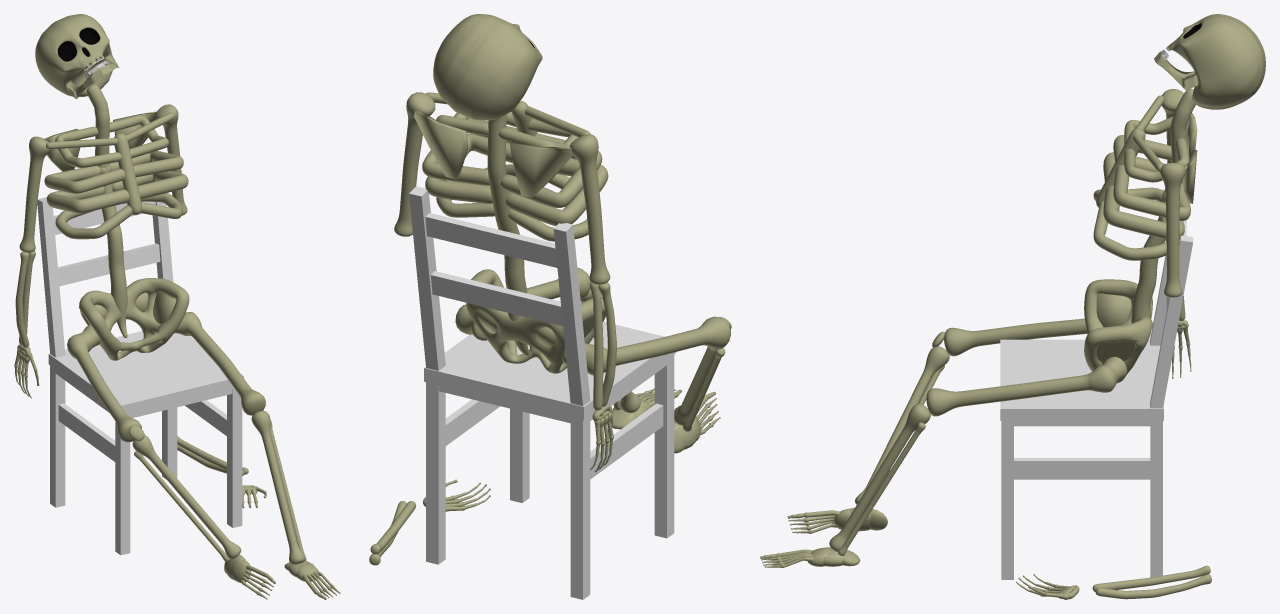
The model's file is Skeleton chess puzzle with chair.glb.
3 views of the same model, side by side, from view 1: azimuth 30°, elevation 25°; view 2: azimuth 150°, elevation 25°; view 3: azimuth 270°, elevation 25° (orthographic). The views are drawn at different scales.
Visible parts, largest first — view 1: Dup ruggengraad.002, Cube.020, Dup skull.002, Poot 2.014, Poot 2.015, Poot 2.013, Dup fibula&tibia.r.001, Dup fibula&tibia.l.002, Dup femur.r.001, Dup femur.l.002, Poot 2.016, Poot 2.018 (+8 smaller); view 2: Dup ruggengraad.002, Cube.020, Dup skull.002, Poot 2.013, Poot 2.015, Poot 2.014, Poot 2.018, Poot 2.017, Poot 2.016, Dup femur.r.001, Dup humerus.r.002, Dup Ulna&radius.r.002 (+8 smaller); view 3: Dup ruggengraad.002, Cube.020, Dup skull.002, Dup femur.l.002, Poot 2.016, Poot 2.015, Dup fibula&tibia.l.002, Dup femur.r.001, Dup Humerus.l.002, Poot 2.014, Poot 2.013, Dup Ulna&radius.l.002 (+4 smaller).
Part boxes in pixels (box(x1,y1,x2,y2)): Dup ruggengraad.002: box(44, 84, 189, 360); Cube.020: box(48, 331, 243, 417); Dup skull.002: box(35, 14, 119, 99); Poot 2.014: box(115, 388, 242, 555); Poot 2.015: box(37, 197, 173, 357); Poot 2.013: box(50, 365, 177, 507); Dup fibula&tibia.r.001: box(132, 435, 241, 561); Dup fibula&tibia.l.002: box(251, 410, 306, 564); Dup femur.r.001: box(67, 325, 141, 442); Dup femur.l.002: box(174, 312, 265, 415); Poot 2.016: box(58, 400, 226, 461); Poot 2.018: box(58, 243, 160, 286); Dup ruggengraad.002: box(414, 92, 608, 373); Cube.020: box(424, 321, 676, 423); Dup skull.002: box(433, 14, 542, 120); Poot 2.013: box(426, 382, 590, 599); Poot 2.015: box(409, 186, 590, 405); Poot 2.014: box(510, 355, 674, 538); Poot 2.018: box(430, 271, 562, 325); Poot 2.017: box(425, 213, 557, 267); Poot 2.016: box(445, 399, 663, 479); Dup femur.r.001: box(562, 316, 730, 375); Dup humerus.r.002: box(569, 134, 610, 284); Dup Ulna&radius.r.002: box(590, 282, 616, 410); Dup ruggengraad.002: box(1084, 88, 1197, 383); Cube.020: box(1000, 339, 1163, 426); Dup skull.002: box(1154, 14, 1265, 109); Dup femur.l.002: box(926, 356, 1127, 416); Poot 2.016: box(1014, 458, 1150, 479); Poot 2.015: box(1150, 235, 1193, 408); Dup fibula&tibia.l.002: box(829, 404, 930, 555); Dup femur.r.001: box(944, 318, 1087, 356); Dup Humerus.l.002: box(1160, 162, 1185, 297); Poot 2.014: box(1001, 421, 1013, 579); Poot 2.013: box(1150, 421, 1162, 577); Dup Ulna&radius.l.002: box(1092, 565, 1211, 599).
Bounding box in the file's own units: 2.1 × 4.56 × 4.
Materials: 1 (1 with a texture image).
